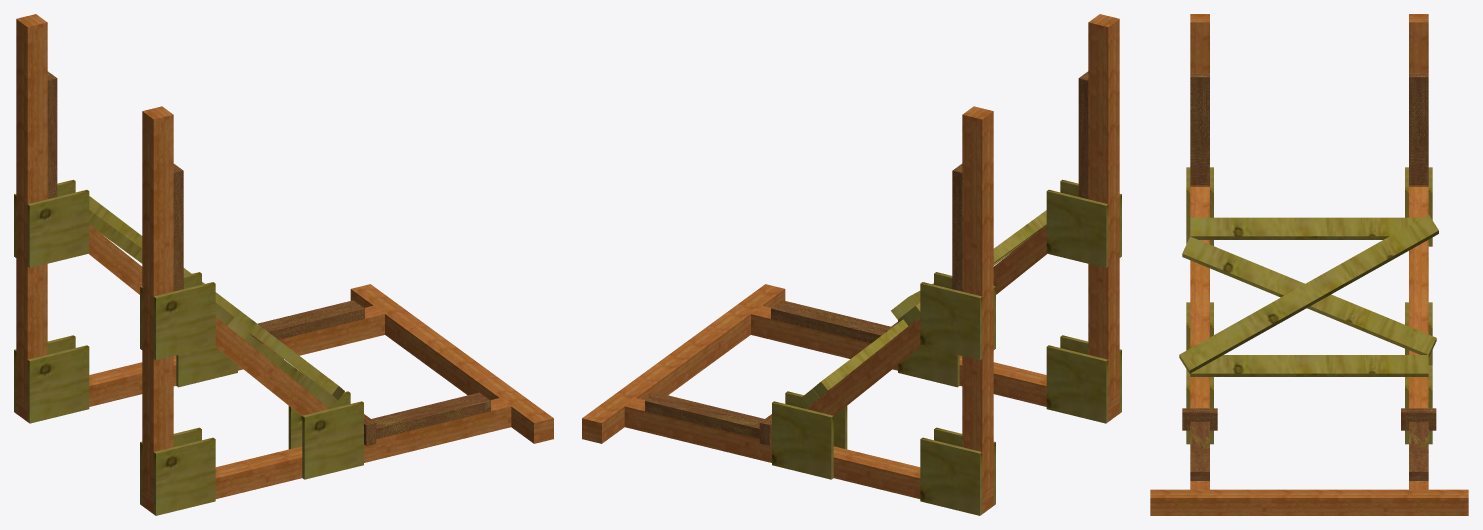
The model's file is ShoringL.dae.
The picture shows the model from 3 angles, left to right: view 1: azimuth 30°, elevation 25°; view 2: azimuth 150°, elevation 25°; view 3: azimuth 270°, elevation 25°; orthographic projection. The views are drawn at different scales.
Visible parts, largest first — view 1: group_9 (×6), group_5, group_22, group_16, group_12, group_26, group_4, group_1, group_6, group_23, group_21, group_11 (+4 smaller); view 2: group_8 (×6), group_22, group_5, group_16, group_26, group_12, group_21, group_23, group_6, group_4, group_25, group_11 (+3 smaller); view 3: group_16, group_1, group_14, group_15, group_27, group_21, group_4, group_11, group_25, group_5, group_22, group_6 (+4 smaller).
Boxes of the visible parts, box(x1,y1,x2,y2) form: group_9 (×6): box(27, 189, 363, 515); group_5: box(142, 106, 173, 493); group_22: box(16, 14, 47, 400); group_16: box(350, 284, 553, 443); group_12: box(142, 398, 511, 513); group_26: box(16, 305, 384, 421); group_4: box(215, 317, 329, 415); group_1: box(89, 196, 344, 399); group_6: box(371, 392, 490, 439); group_23: box(250, 300, 364, 343); group_21: box(89, 224, 142, 294); group_11: box(173, 164, 183, 291); group_8 (×6): box(772, 189, 1108, 515); group_22: box(962, 106, 993, 493); group_5: box(1088, 14, 1119, 400); group_16: box(582, 284, 785, 443); group_26: box(624, 398, 993, 513); group_12: box(751, 305, 1119, 421); group_21: box(806, 317, 920, 415); group_23: box(645, 392, 764, 439); group_6: box(771, 300, 890, 343); group_4: box(993, 224, 1046, 294); group_25: box(952, 164, 962, 291); group_11: box(1078, 71, 1088, 198); group_16: box(1150, 489, 1468, 515); group_1: box(1179, 214, 1438, 373); group_14: box(1182, 236, 1436, 357); group_15: box(1190, 355, 1428, 376); group_27: box(1190, 217, 1422, 239); group_21: box(1409, 187, 1428, 408); group_4: box(1190, 187, 1209, 408); group_11: box(1190, 73, 1209, 185); group_25: box(1409, 73, 1428, 185); group_5: box(1190, 14, 1209, 186); group_22: box(1409, 14, 1428, 186); group_6: box(1190, 421, 1209, 480).
Bounding box in the file's own units: 74.8 × 62.99 × 74.8.
4 materials, 4 textured.
